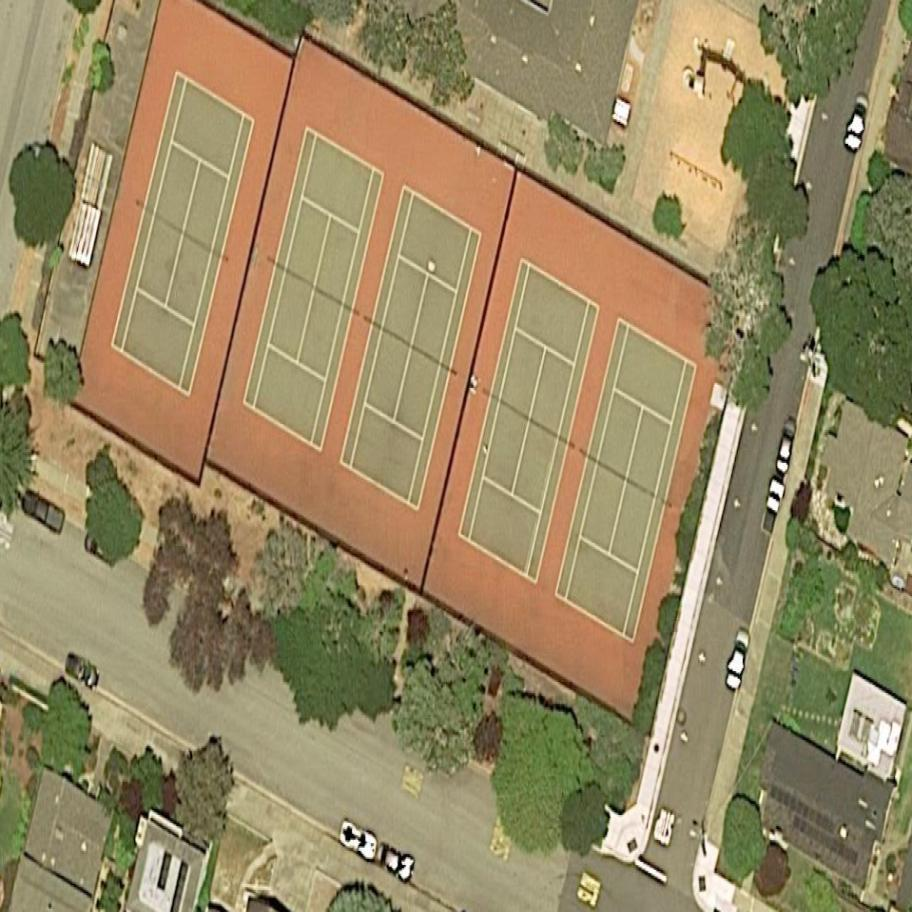small-vehicle: (12, 485, 77, 541), (327, 815, 390, 868), (365, 837, 425, 889), (57, 649, 108, 693), (841, 91, 873, 158), (725, 624, 753, 695), (759, 476, 787, 540), (773, 416, 800, 477)
